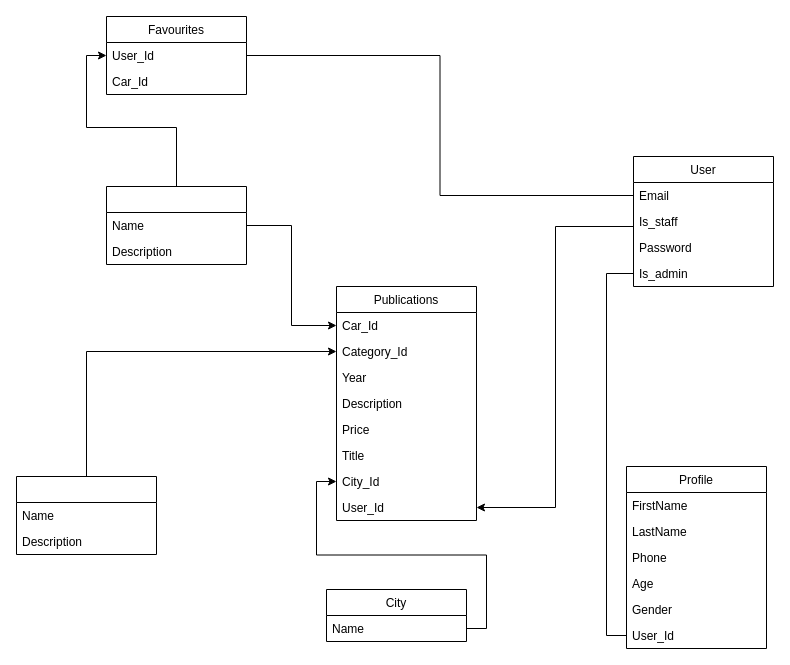
This 790x665 diagram has some shape labels left out. The shapes that lost their labels are listed below. From the top down, each one's box as (x1, y1, x2, y2) in pixels, then its label:
(106, 186, 246, 264): Car
(16, 476, 156, 554): Category
